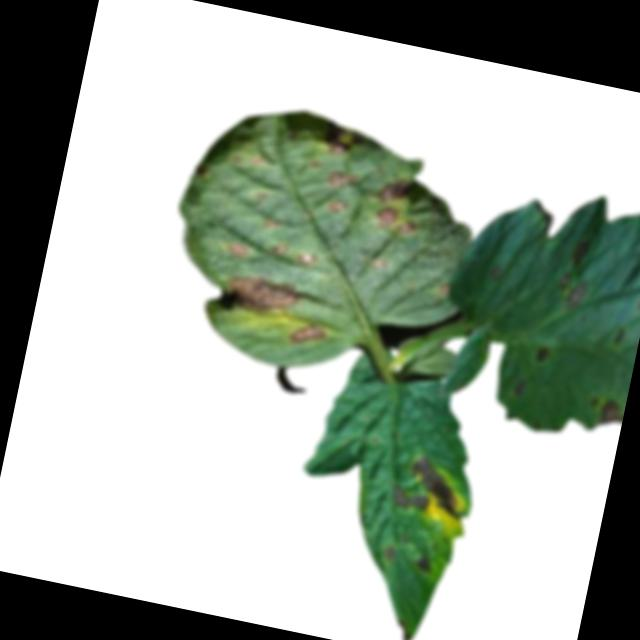Early_blight: (218, 270, 303, 321), (404, 454, 470, 518), (320, 122, 371, 162), (373, 202, 424, 240), (553, 272, 591, 312), (386, 486, 432, 518), (372, 172, 413, 207), (284, 319, 327, 350), (322, 165, 359, 194), (596, 398, 626, 430), (567, 236, 592, 273), (225, 237, 252, 262), (292, 247, 318, 271), (325, 195, 349, 218), (530, 344, 550, 369), (268, 238, 290, 260), (412, 552, 433, 574), (378, 543, 399, 564), (511, 379, 526, 401)
